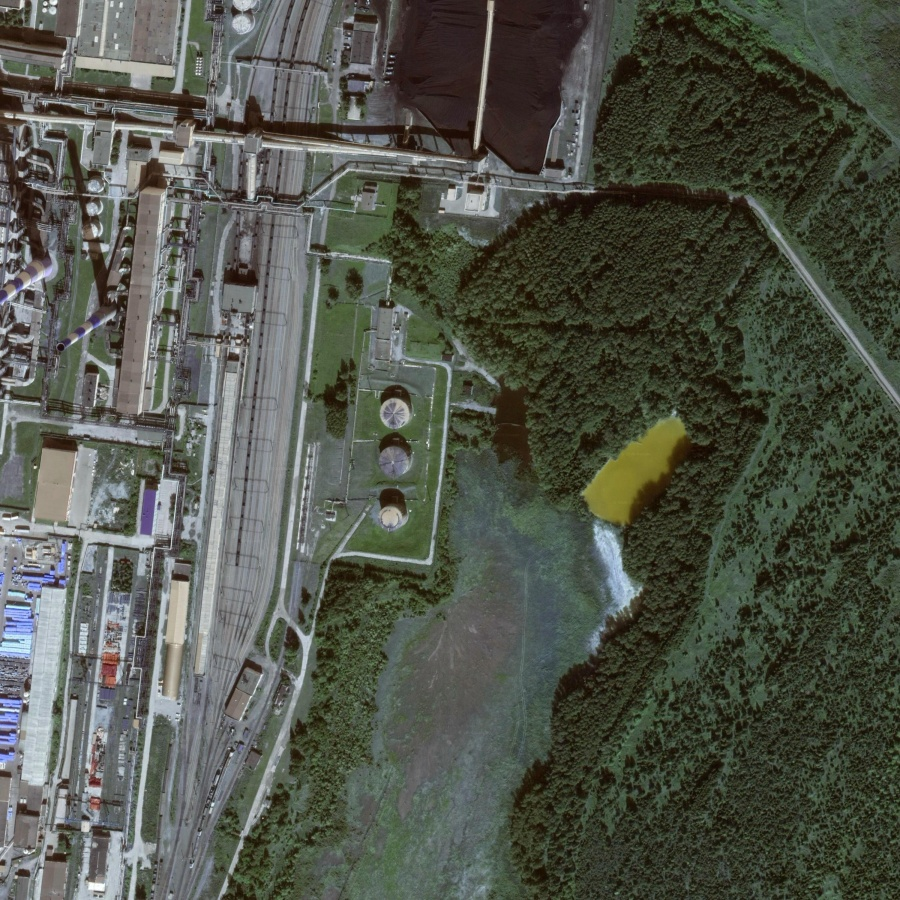PowerPlant: (301, 371, 449, 546)
